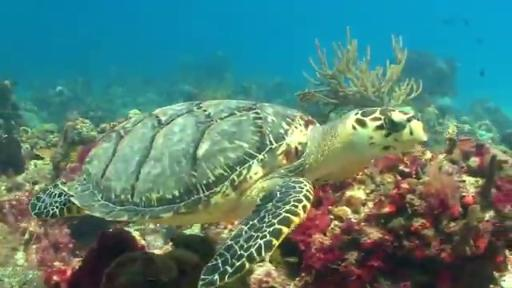Fish: (30, 100, 427, 287)
